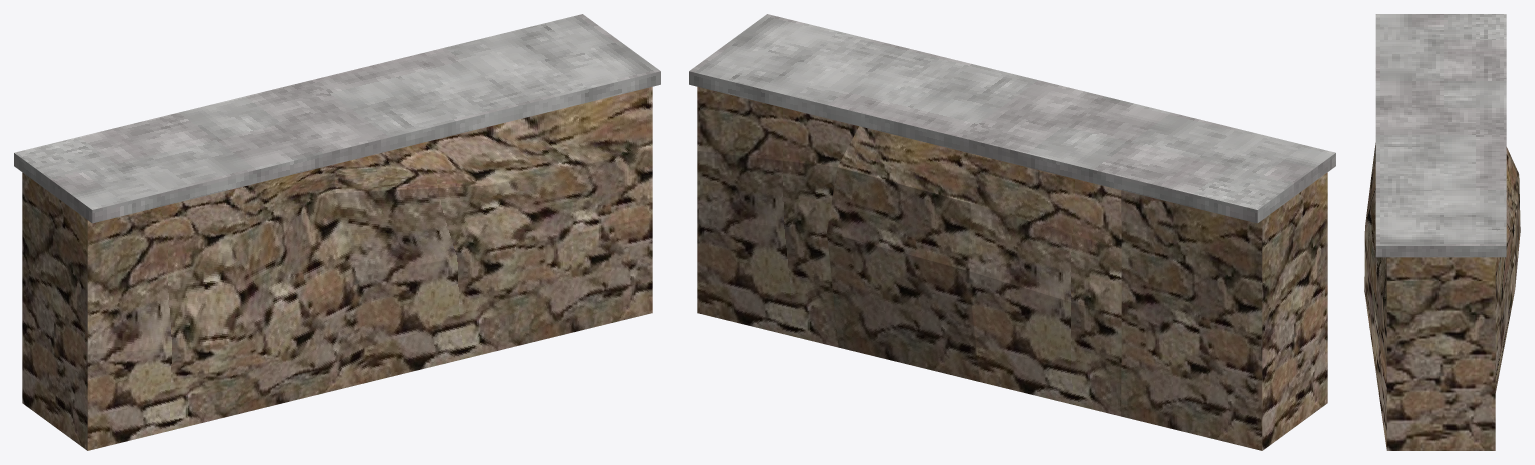
Rendered from lf_drystone_wall_capped.glb.
3 renders of one model, left to right at view 1: azimuth 30°, elevation 25°; view 2: azimuth 150°, elevation 25°; view 3: azimuth 270°, elevation 25°, orthographic. The views are drawn at different scales.
Parts seen in each view (by area): view 1: drystone_wall_capped; view 2: drystone_wall_capped; view 3: drystone_wall_capped.
Part boxes in pixels (x1,y1,x2,y2): drystone_wall_capped: (14, 14, 660, 450); drystone_wall_capped: (689, 14, 1335, 450); drystone_wall_capped: (1364, 14, 1520, 450).
Bounding box in the file's own units: 2.01 × 0.8327 × 0.5729.
2 materials, 2 textured.
